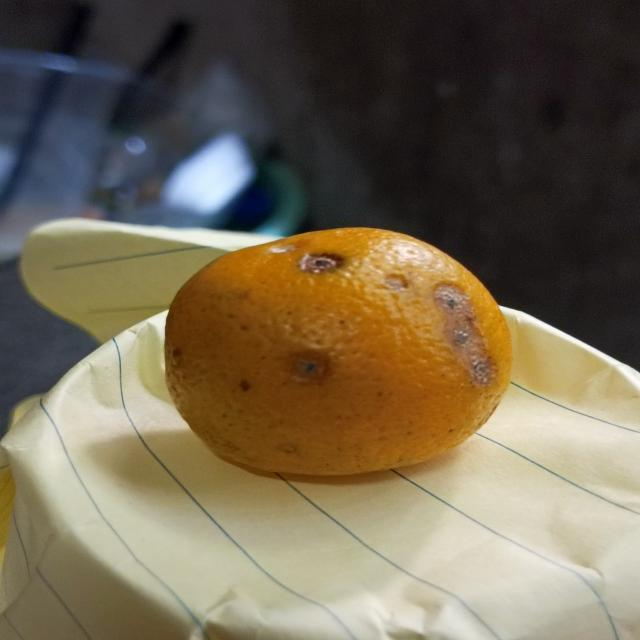black spot: (159, 218, 522, 481)
